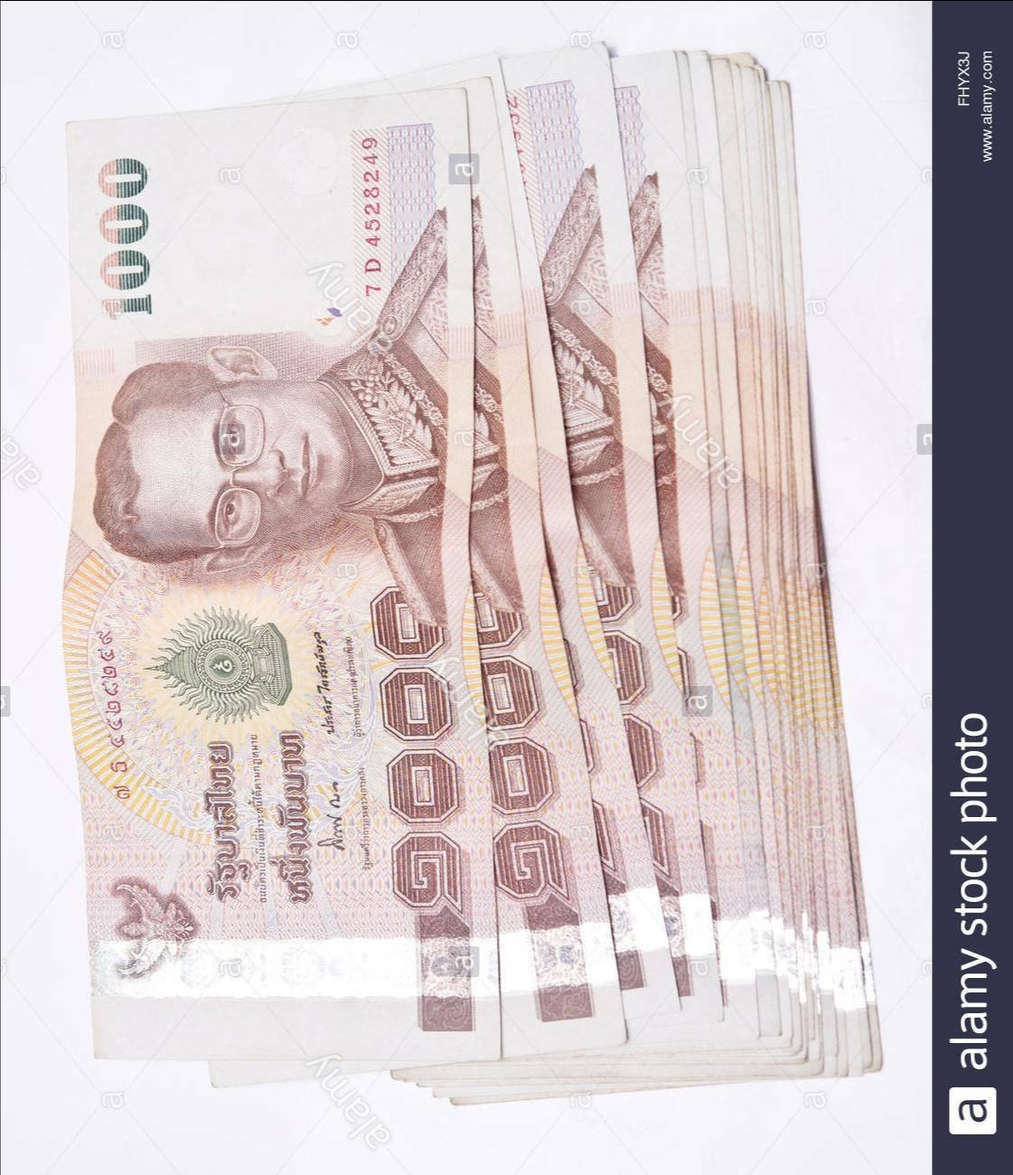1000BahtTai: (66, 99, 494, 1064)
